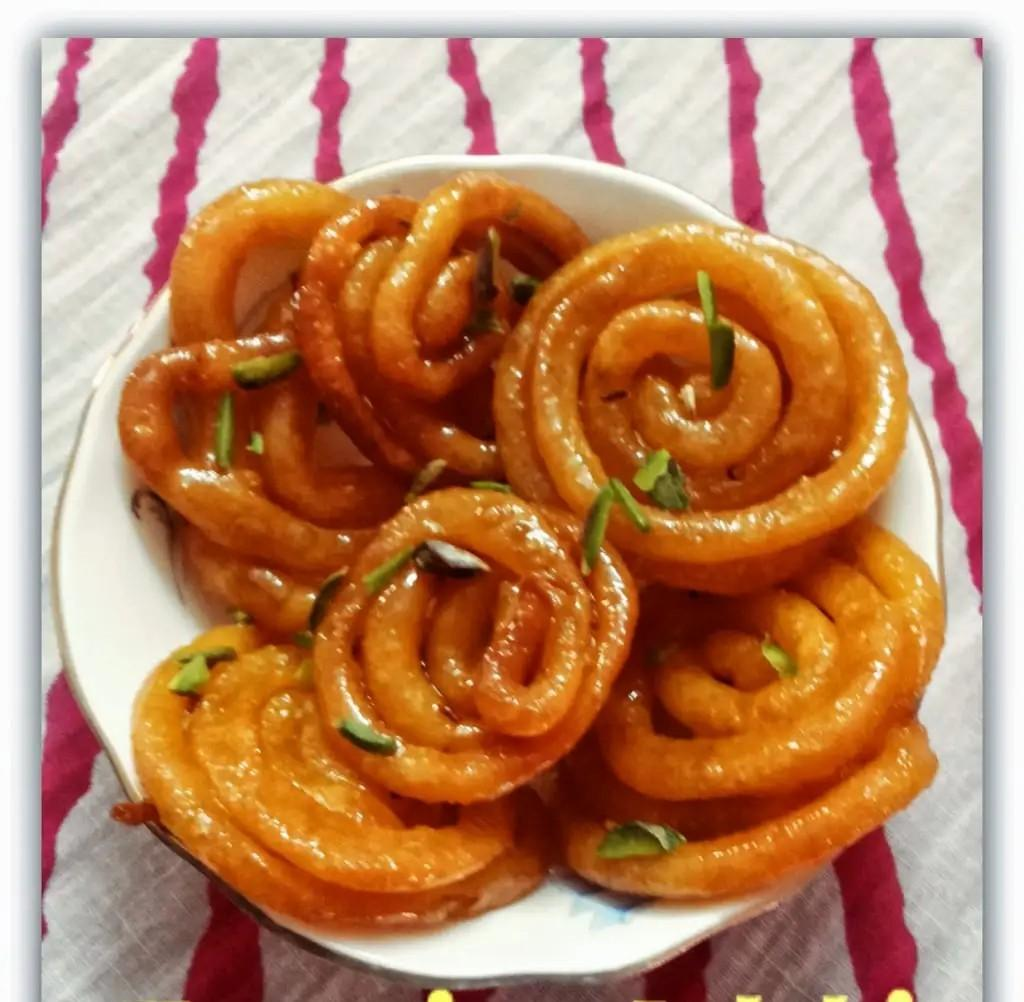Jalebi: (141, 162, 940, 931)
